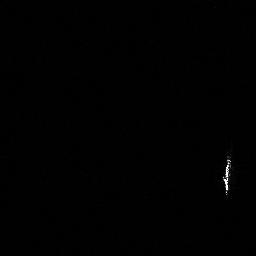ship: (218, 151, 235, 198)
